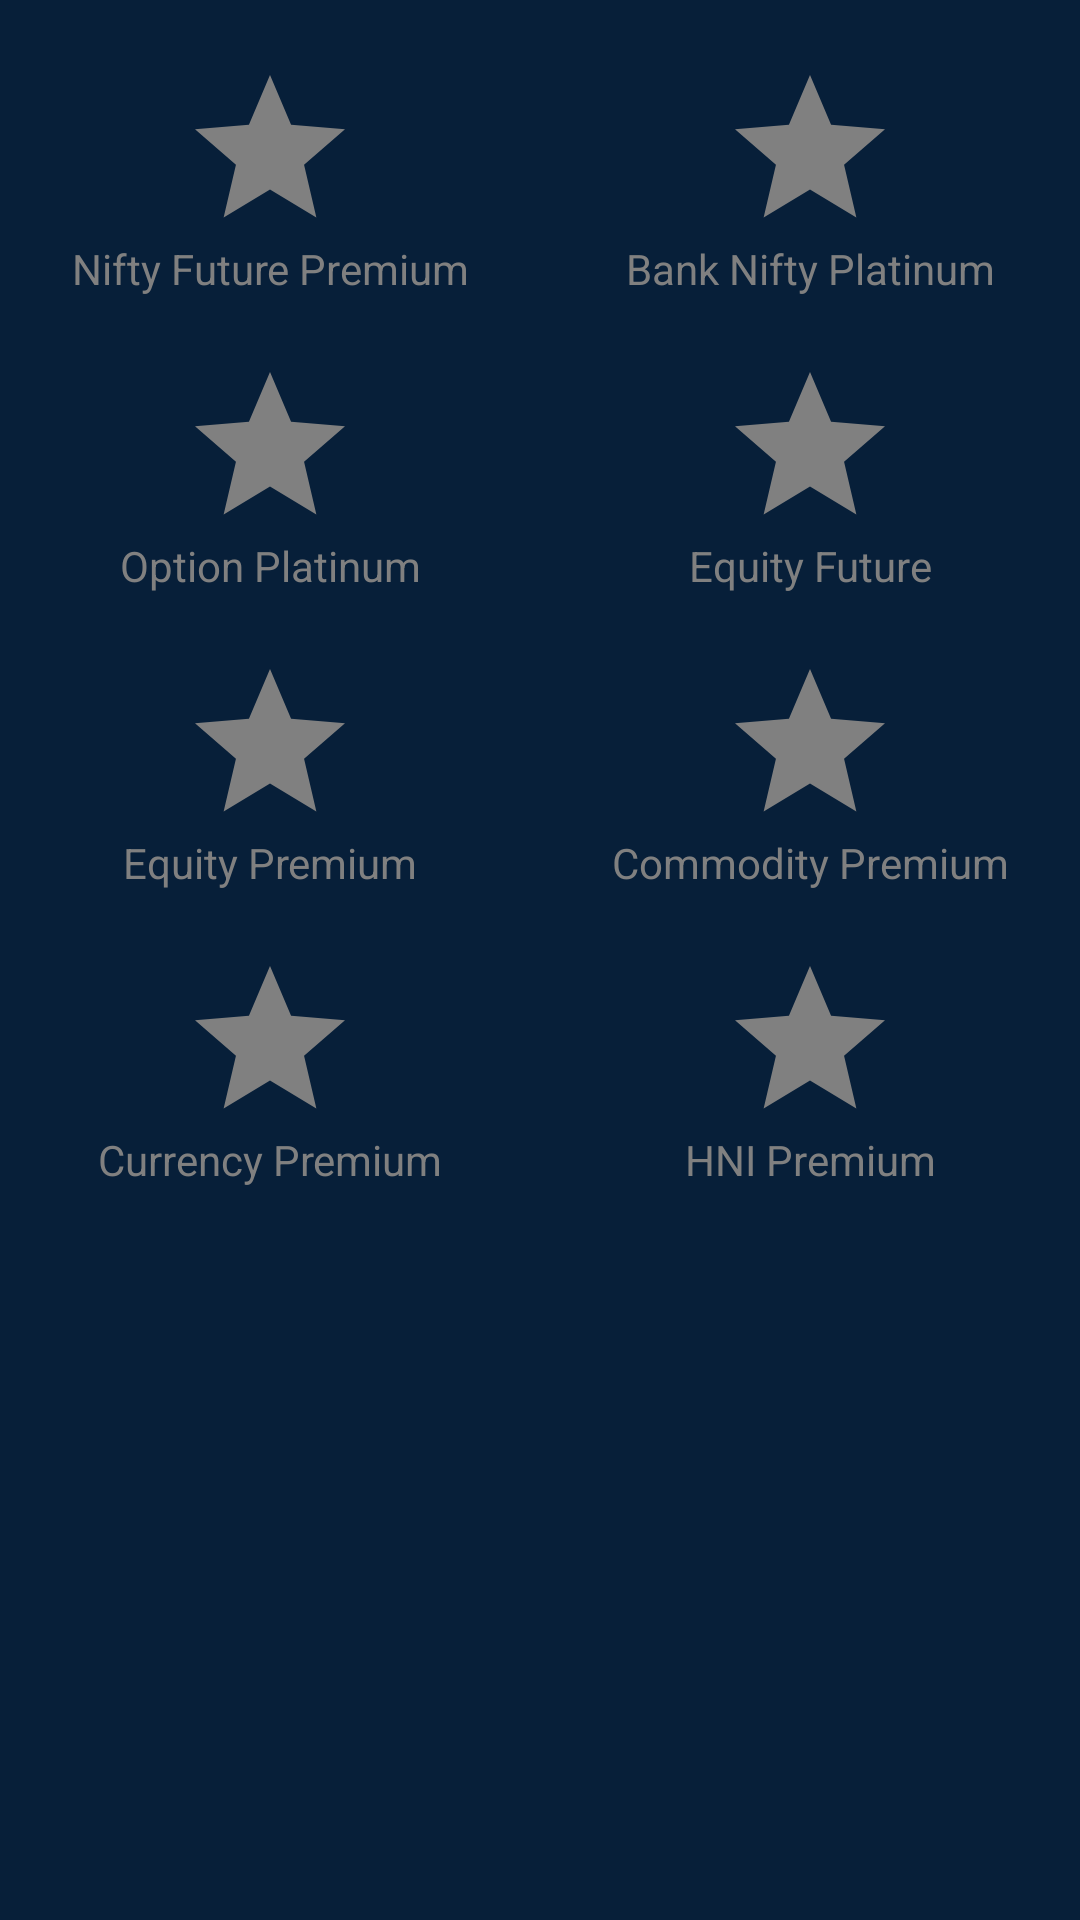

Point at icon controls on the screen. Image size 1080px×1920px, points as point (x, y).
star: point (270, 146), point (810, 146), point (270, 443), point (810, 443), point (270, 740), point (810, 740), point (270, 1037), point (810, 1037)
